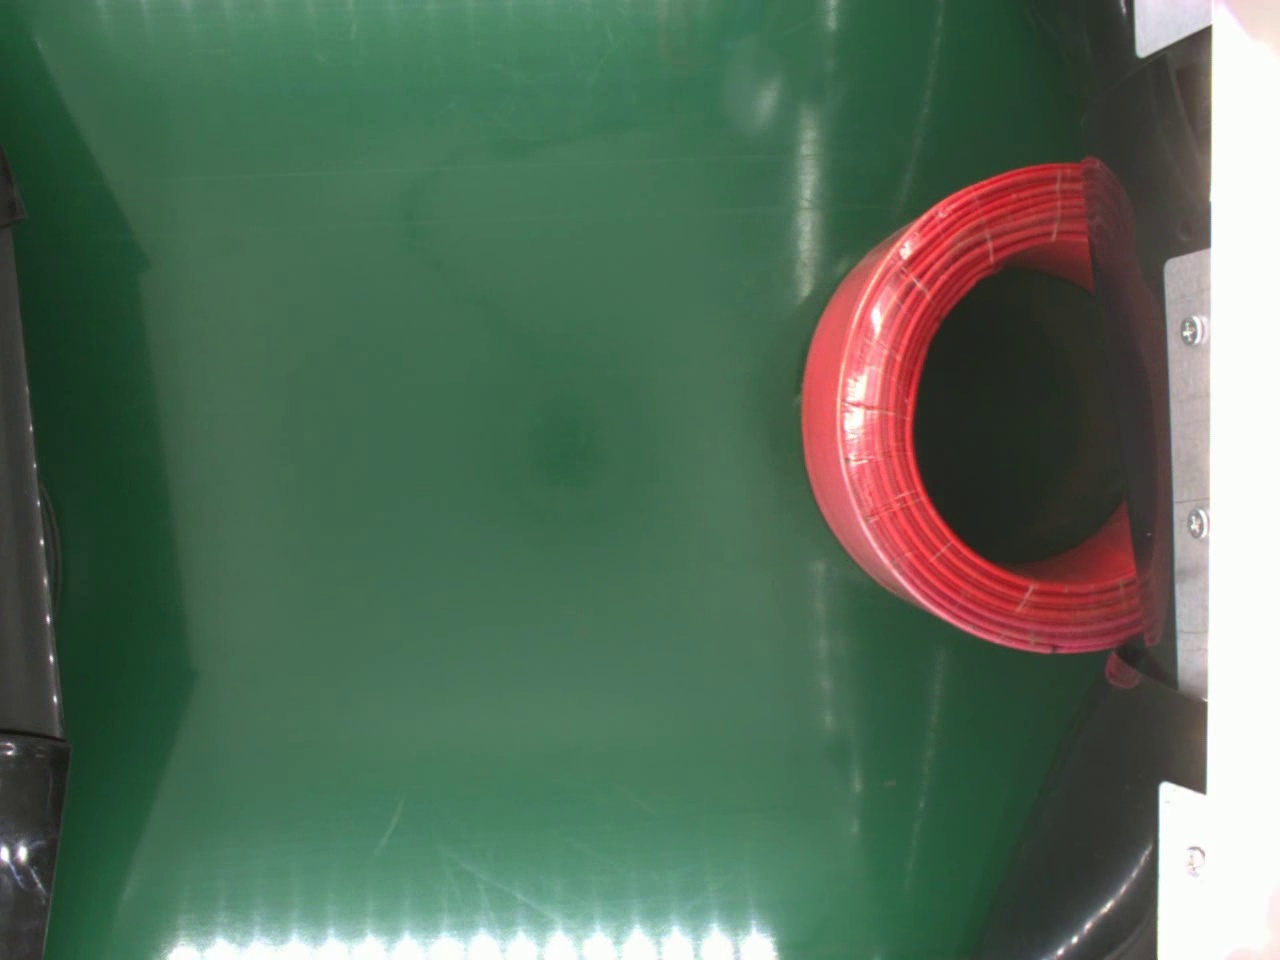red: (790, 153, 1142, 664)
